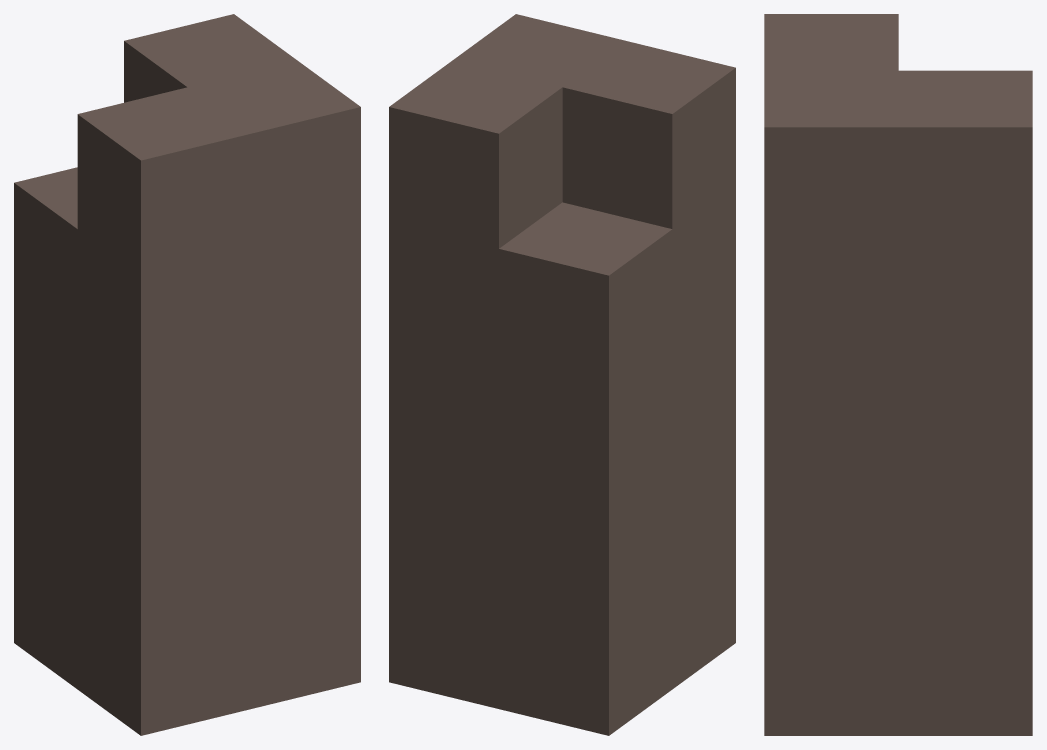
File: lamb__leg_fl.glb
3 views of the same model, side by side, from view 1: azimuth 30°, elevation 25°; view 2: azimuth 150°, elevation 25°; view 3: azimuth 270°, elevation 25° (orthographic). The views are drawn at different scales.
Visible parts, largest first — view 1: lamb__leg_fl; view 2: lamb__leg_fl; view 3: lamb__leg_fl.
Boxes of the visible parts, x1,y1,x2,y2 form: lamb__leg_fl: [14, 14, 360, 735]; lamb__leg_fl: [389, 14, 735, 735]; lamb__leg_fl: [764, 14, 1032, 735].
Bounding box in the file's own units: 0.2 × 0.5 × 0.2.
1 material, 1 textured.
